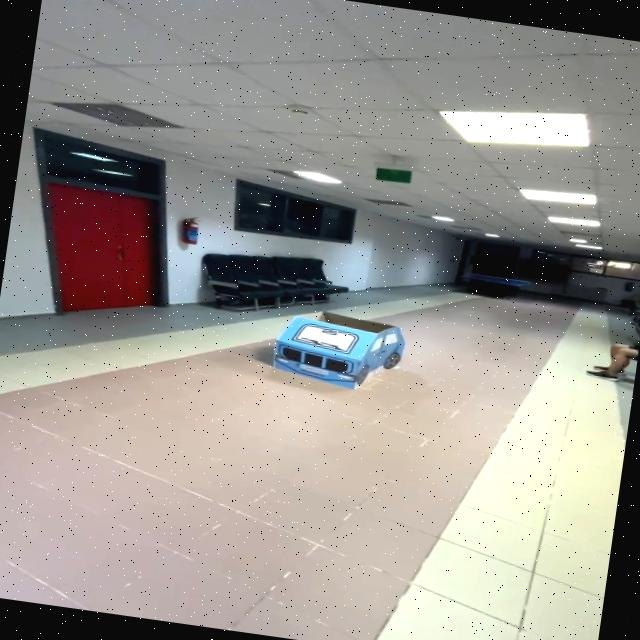blue_car: (230, 289, 432, 422)
